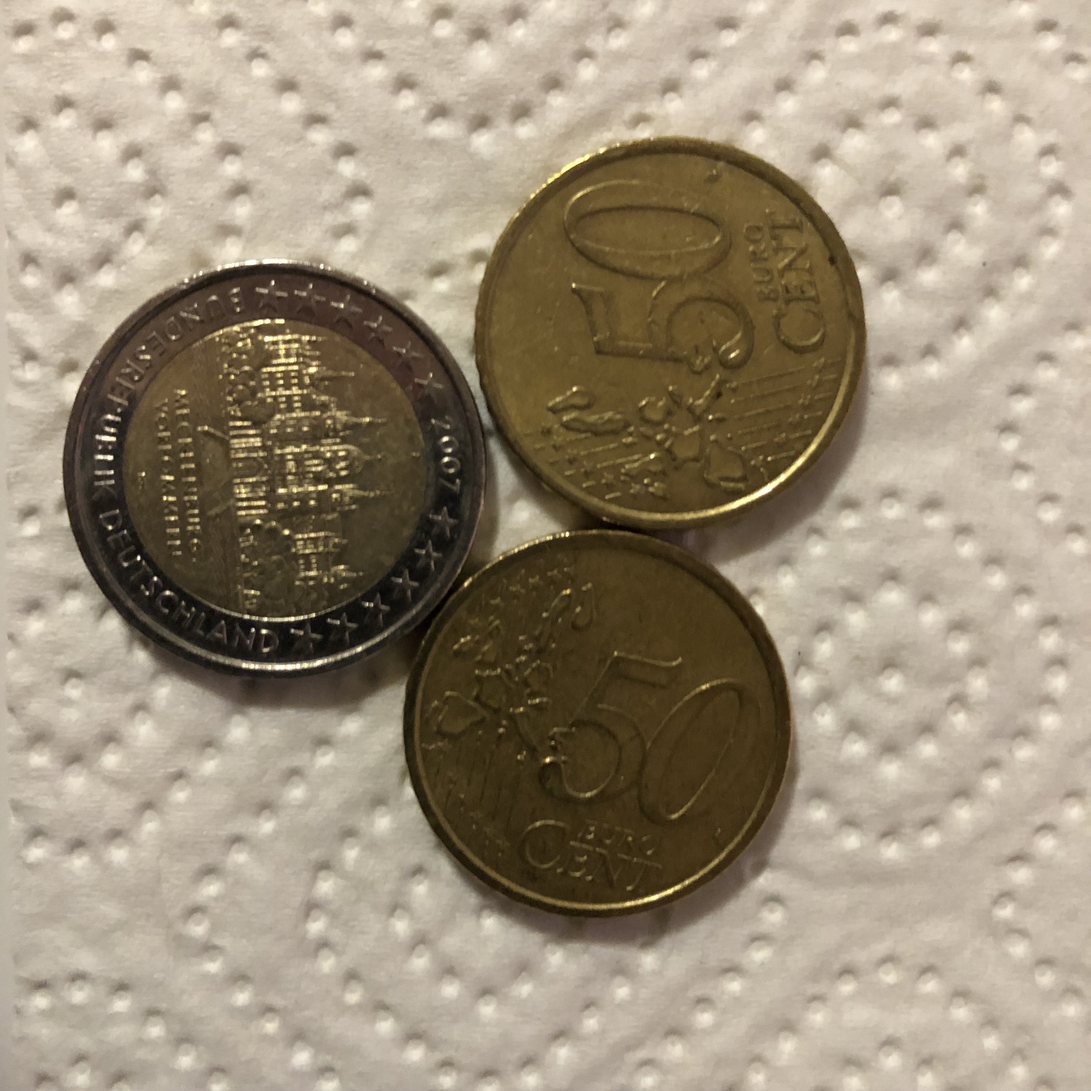2 euro: (65, 250, 481, 695)
50 cent: (391, 534, 793, 919), (481, 142, 883, 526)
